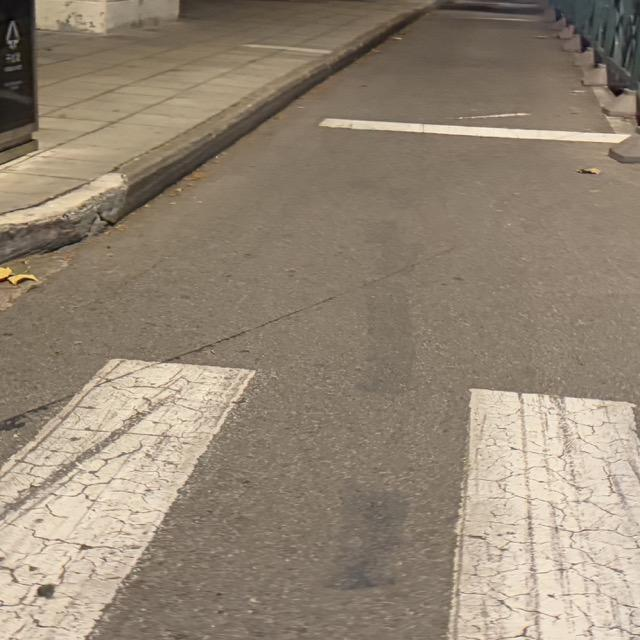curb: (0, 0, 440, 263)
